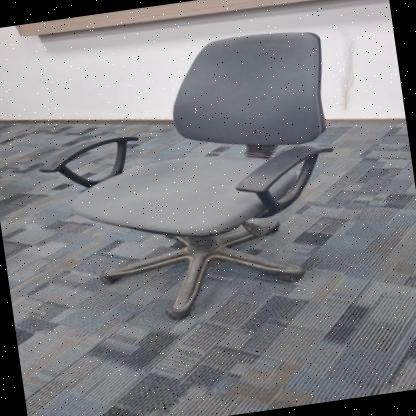chair: (18, 18, 367, 337)
